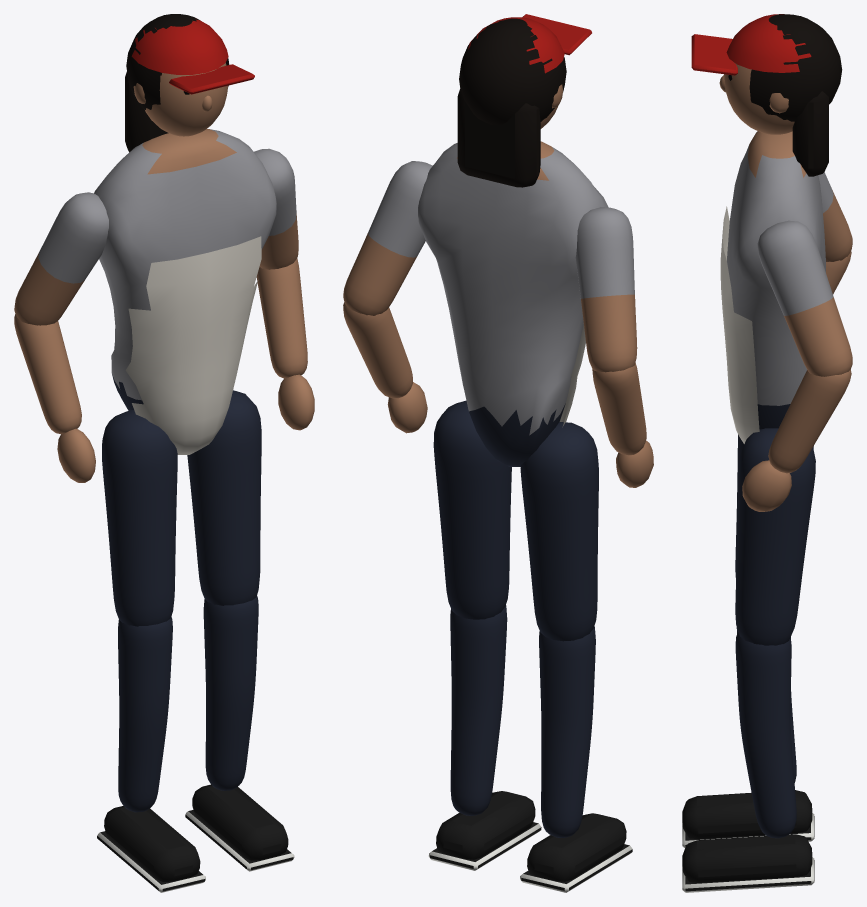
The model's file is people.glb.
The picture shows the model from 3 angles, left to right: view 1: azimuth 30°, elevation 25°; view 2: azimuth 150°, elevation 25°; view 3: azimuth 270°, elevation 25°; orthographic projection. The views are drawn at different scales.
Parts seen in each view (by area): view 1: person_body, person_apron, person_shin_L, person_shin_R, person_thigh_L, person_thigh_R, person_uarm_L, person_farm_L, person_farm_R, person_cap, person_head, person_hair_long (+1 smaller); view 2: person_body, person_shin_R, person_shin_L, person_thigh_L, person_hair_long, person_thigh_R, person_uarm_L, person_uarm_R, person_farm_R, person_farm_L, person_cap, person_apron; view 3: person_shin_R, person_body, person_thigh_R, person_uarm_R, person_hair_long, person_farm_R, person_shin_L, person_cap, person_apron, person_head, person_uarm_L, person_farm_L.
Boxes of the visible parts, x1,y1,x2,y2 form: person_body: [94, 129, 276, 410]; person_apron: [125, 236, 261, 454]; person_shin_L: [97, 617, 205, 892]; person_shin_R: [185, 596, 294, 871]; person_thigh_L: [102, 410, 177, 626]; person_thigh_R: [187, 390, 261, 605]; person_uarm_L: [14, 192, 108, 325]; person_farm_L: [14, 314, 95, 482]; person_farm_R: [256, 258, 314, 430]; person_cap: [131, 19, 254, 94]; person_head: [133, 63, 227, 136]; person_hair_long: [125, 14, 229, 152]; person_body: [418, 141, 608, 466]; person_shin_R: [428, 605, 541, 870]; person_shin_L: [520, 626, 632, 892]; person_thigh_L: [520, 422, 598, 641]; person_hair_long: [457, 18, 566, 187]; person_thigh_R: [433, 400, 511, 619]; person_uarm_L: [575, 207, 637, 372]; person_uarm_R: [343, 161, 432, 315]; person_farm_R: [343, 302, 427, 433]; person_farm_L: [592, 362, 653, 487]; person_cap: [468, 14, 591, 73]; person_apron: [559, 324, 585, 427]; person_shin_R: [682, 632, 814, 892]; person_body: [727, 131, 825, 429]; person_thigh_R: [735, 428, 815, 645]; person_uarm_R: [757, 220, 852, 376]; person_hair_long: [749, 14, 842, 176]; person_farm_R: [742, 370, 851, 511]; person_shin_L: [682, 627, 814, 847]; person_cap: [691, 14, 811, 75]; person_apron: [720, 206, 759, 443]; person_head: [719, 62, 794, 134]; person_uarm_L: [818, 172, 852, 261]; person_farm_L: [826, 251, 851, 294].
Bounding box in the file's own units: 0.632 × 1.79 × 0.3282.
